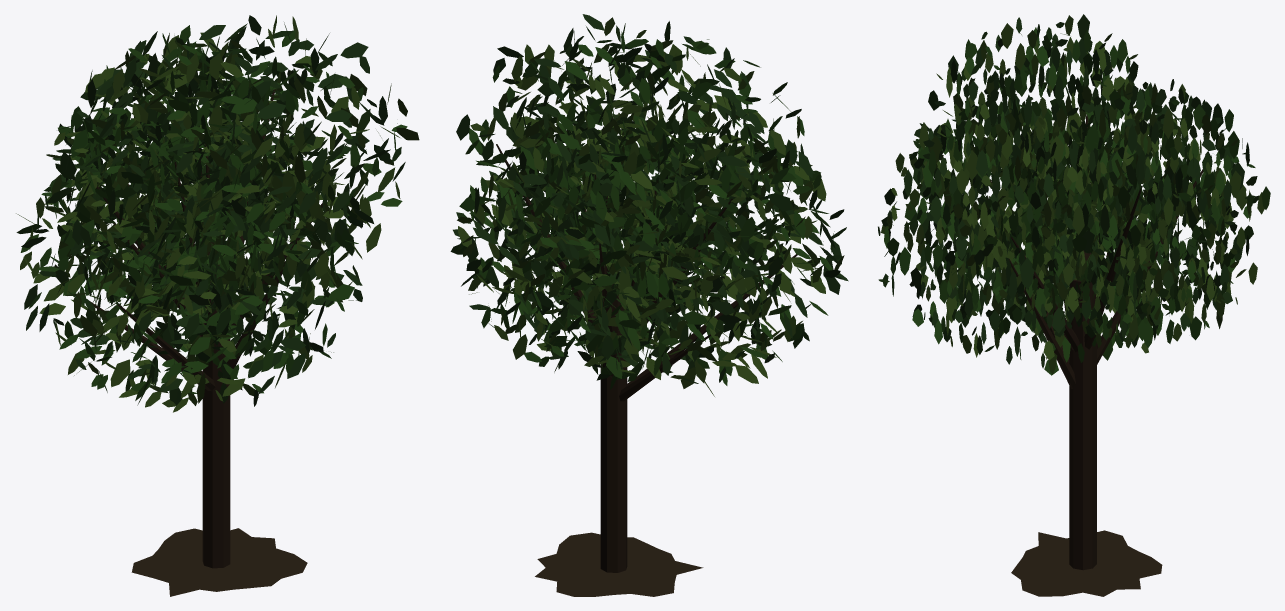
Rendered from tree.dae.
3 renders of one model, left to right at view 1: azimuth 30°, elevation 25°; view 2: azimuth 150°, elevation 25°; view 3: azimuth 270°, elevation 25°, orthographic. The views are drawn at different scales.
Parts seen in each view (by area): view 1: tree_0_L150; view 2: tree_0_L150; view 3: tree_0_L150.
Part boxes in pixels (<box>): tree_0_L150: <box>16,15,419,596</box>; tree_0_L150: <box>450,14,848,596</box>; tree_0_L150: <box>878,14,1270,596</box>.
Size of the model in its own units: 2.85 by 2.84 by 4.18.
